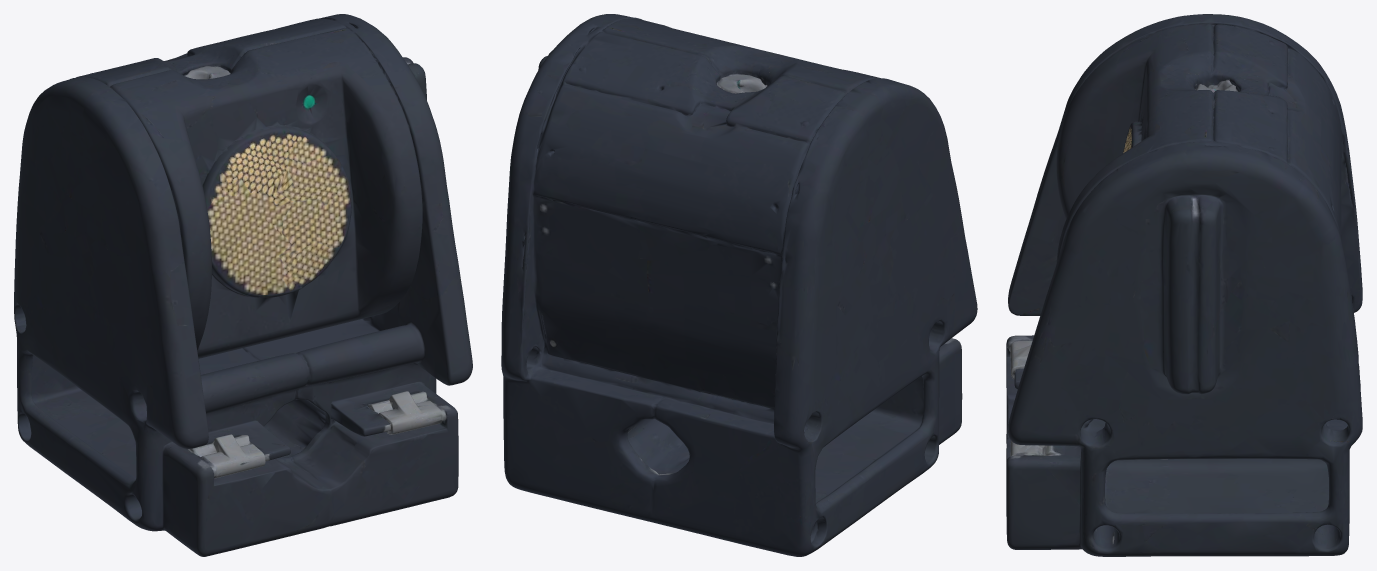
The model's file is sensor_movimiento.glb.
The picture shows the model from 3 angles, left to right: view 1: azimuth 30°, elevation 25°; view 2: azimuth 150°, elevation 25°; view 3: azimuth 270°, elevation 25°; orthographic projection. The views are drawn at different scales.
Size of the model in its own units: 1.64 by 1.9 by 1.5.
Materials: 1 (1 with a texture image).
